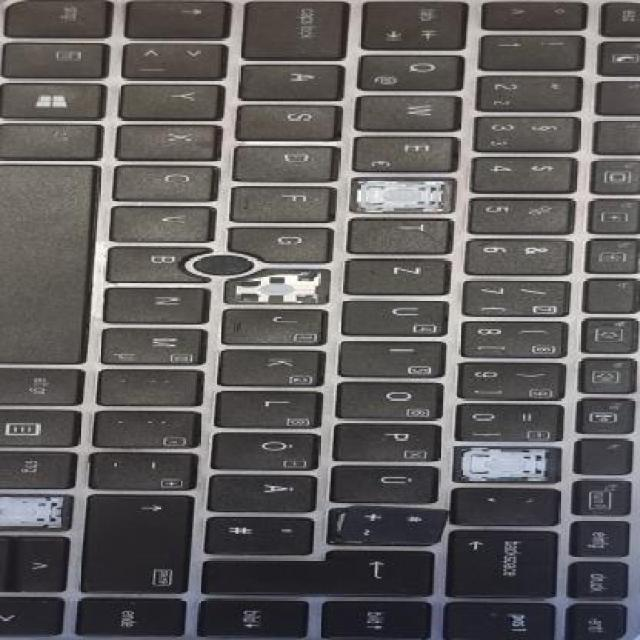Keyboard problems: (454, 448, 558, 482), (226, 269, 328, 303), (354, 180, 451, 211), (2, 495, 69, 529)
